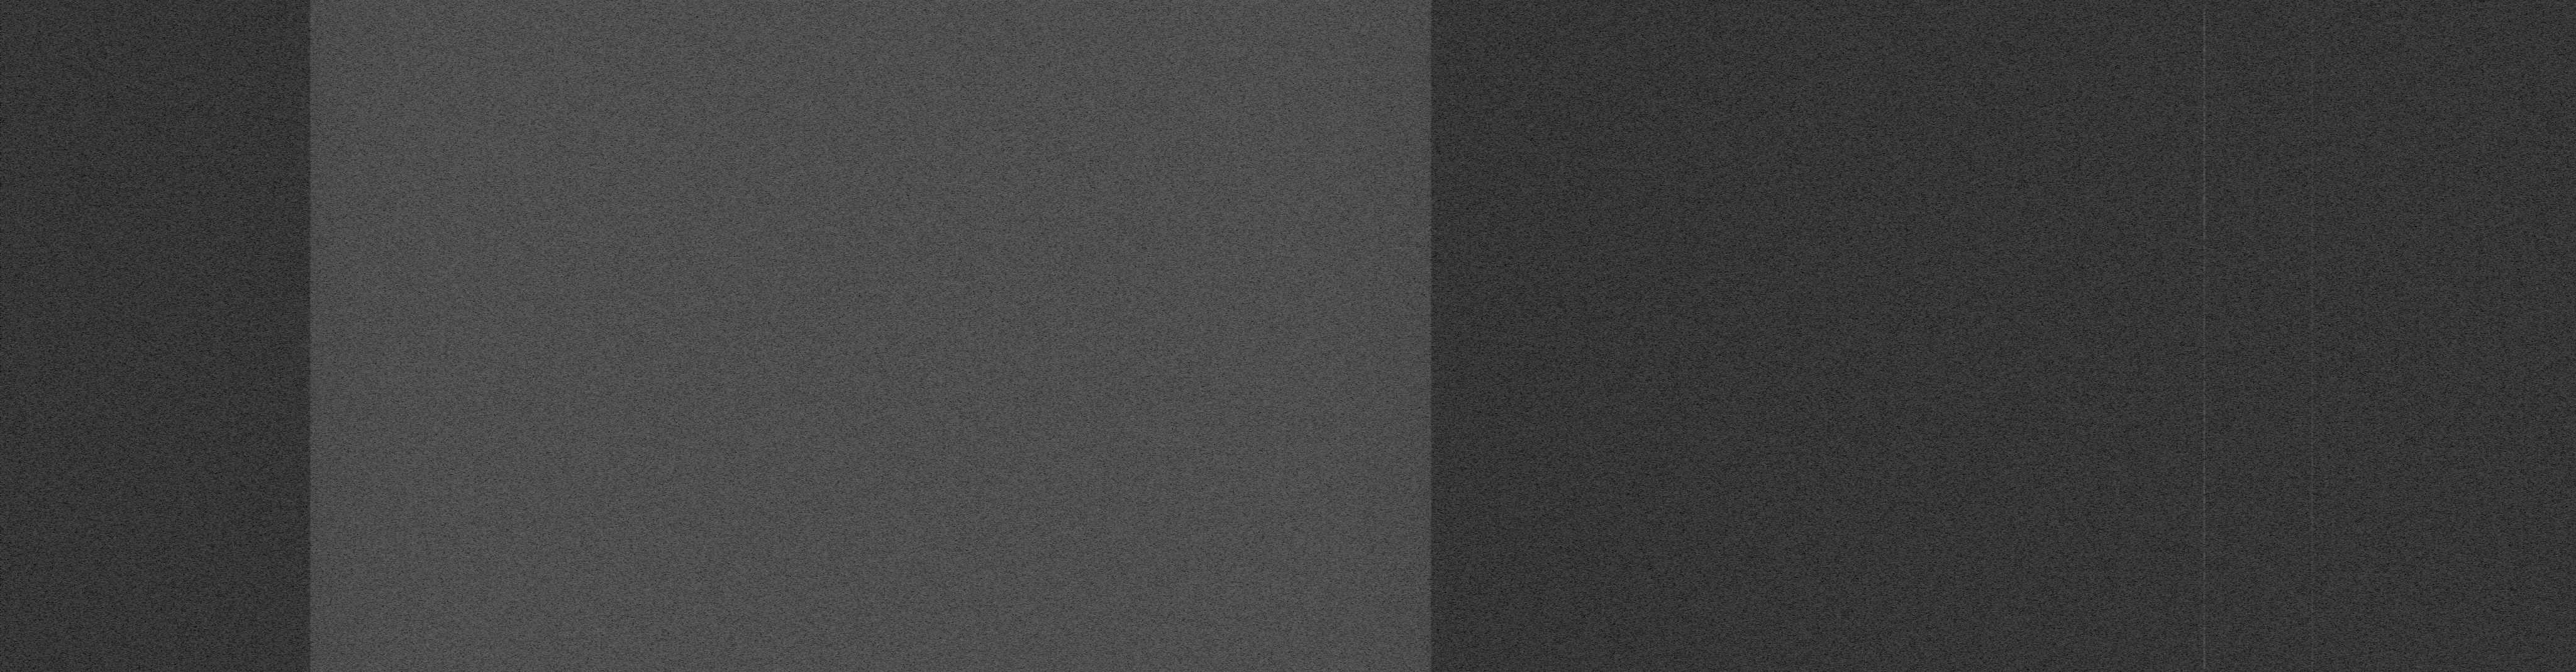wv_dvbt_8kfft: (268, 0, 1483, 672)
wv_lsb: (2310, 8, 2313, 672), (2203, 256, 2206, 495), (2203, 560, 2206, 672), (2203, 146, 2206, 255), (2203, 7, 2206, 72), (2203, 496, 2206, 559), (2203, 74, 2206, 127), (2203, 127, 2206, 145)
